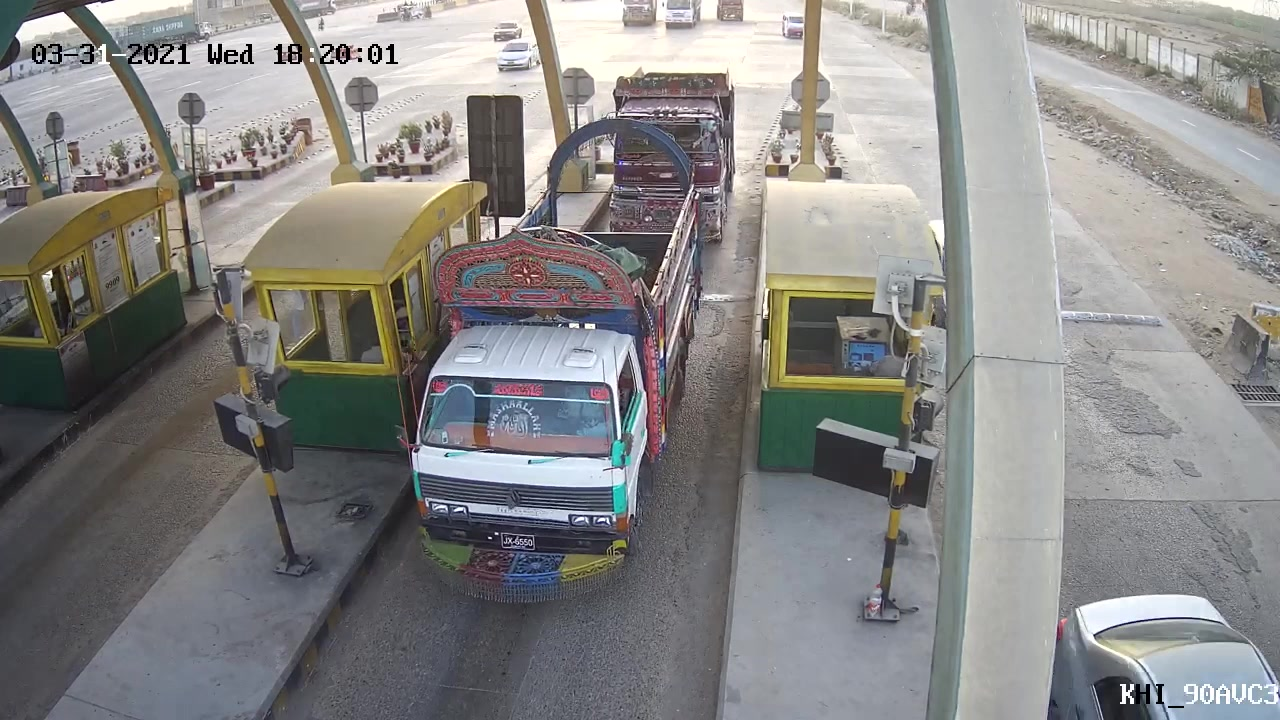F5: (392, 116, 700, 604)
